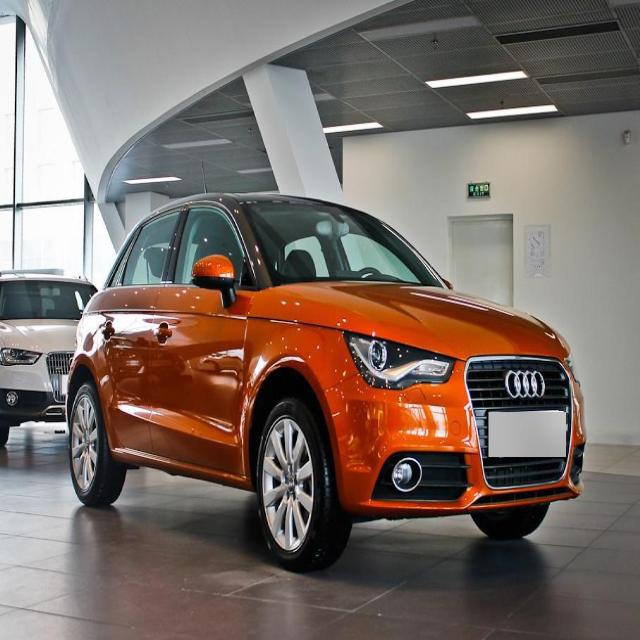door: (106, 203, 190, 445)
front_bumper: (314, 370, 586, 514)
front_glass: (238, 200, 449, 292)
front_right_side_door: (148, 200, 250, 480)
front_right_side_light: (341, 328, 457, 392)
front_right_side_mirror: (190, 254, 236, 306)
wheel: (255, 396, 350, 572), (68, 381, 127, 507)
